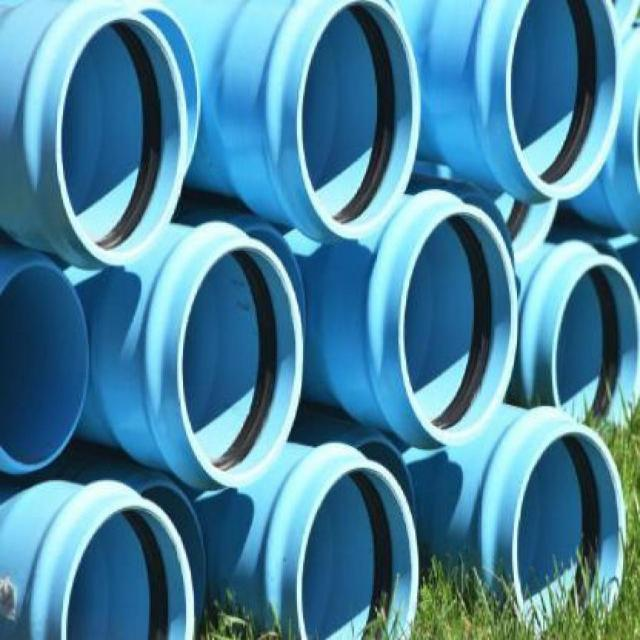pipe: (56, 11, 187, 267), (176, 243, 303, 486), (297, 1, 422, 242), (398, 204, 518, 446), (511, 429, 627, 634), (506, 0, 623, 200), (296, 461, 418, 640), (59, 496, 196, 640), (0, 263, 89, 472), (550, 255, 640, 428)
